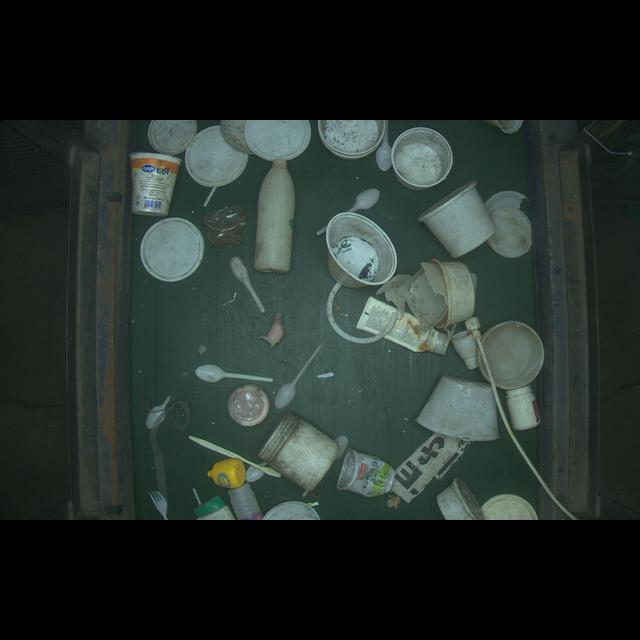mix PP: (414, 179, 494, 259), (253, 157, 297, 278), (128, 148, 183, 217), (504, 387, 546, 431), (205, 457, 246, 487)
